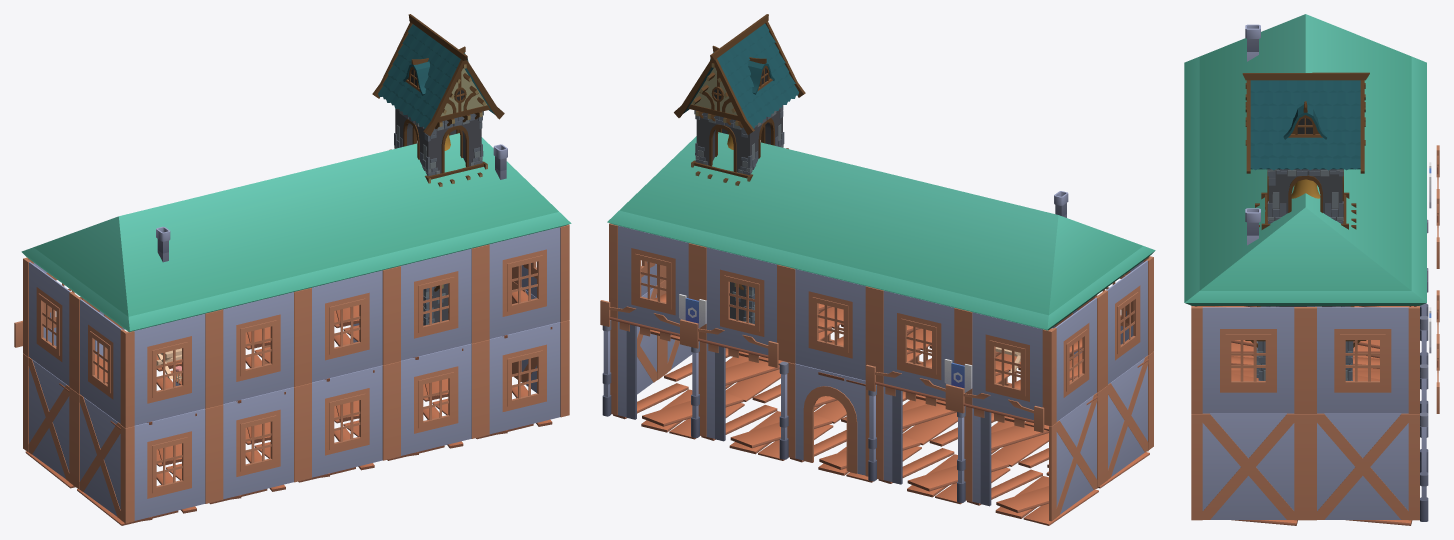
File: london_guild_3.glb
The picture shows the model from 3 angles, left to right: view 1: azimuth 30°, elevation 25°; view 2: azimuth 150°, elevation 25°; view 3: azimuth 270°, elevation 25°; orthographic projection. The views are drawn at different scales.
Visible parts, largest first — view 1: wall-window-shutters (×14), roof-gable (×3), roof-gable-end (×2), Bell_Tower, wall-detail-cross (×3); view 2: wall-window-shutters (×7), roof-gable (×3), roof-gable-end (×2), platform-planks (×9), wall-detail-cross (×4), Bell_Tower, wall-arch (×4), wall-door, balcony-wall-fence (×4), pillar-stone (×5), Guild_entrance_emblem_-7.5, Guild_entrance_emblem_7.5; view 3: roof-gable-end (×2), wall-detail-cross (×2), wall-window-shutters (×5), roof-gable (×3), Bell_Tower, pillar-stone (×3), platform-planks (×2), chimney-top (×2), wall-arch.
Part boxes in pixels (left/top/right/bottom): wall-window-shutters (×14): left=23, top=224, right=569, bottom=523; roof-gable (×3): left=163, top=143, right=483, bottom=311; roof-gable-end (×2): left=21, top=133, right=571, bottom=332; Bell_Tower: left=372, top=14, right=504, bottom=325; wall-detail-cross (×3): left=23, top=283, right=569, bottom=522; wall-window-shutters (×7): left=609, top=223, right=1153, bottom=426; roof-gable (×3): left=694, top=142, right=1013, bottom=309; roof-gable-end (×2): left=607, top=132, right=1155, bottom=330; platform-planks (×9): left=613, top=348, right=1098, bottom=525; wall-detail-cross (×4): left=610, top=280, right=1153, bottom=521; Bell_Tower: left=674, top=14, right=805, bottom=324; wall-arch (×4): left=610, top=320, right=991, bottom=506; wall-door: left=786, top=362, right=869, bottom=476; balcony-wall-fence (×4): left=600, top=300, right=1044, bottom=432; pillar-stone (×5): left=602, top=320, right=965, bottom=502; Guild_entrance_emblem_-7.5: left=944, top=359, right=972, bottom=392; Guild_entrance_emblem_7.5: left=679, top=294, right=706, bottom=328; roof-gable-end (×2): left=1184, top=14, right=1426, bottom=305; wall-detail-cross (×2): left=1191, top=413, right=1419, bottom=520; wall-window-shutters (×5): left=1191, top=306, right=1419, bottom=520; roof-gable (×3): left=1184, top=38, right=1426, bottom=254; Bell_Tower: left=1242, top=72, right=1369, bottom=380; pillar-stone (×3): left=1420, top=316, right=1428, bottom=521; platform-planks (×2): left=1231, top=340, right=1379, bottom=368; chimney-top (×2): left=1245, top=24, right=1260, bottom=235; wall-arch: left=1416, top=414, right=1419, bottom=520.
Bounding box in the file's own units: 25.18 × 19.75 × 11.15.
Materials: 25 (12 with a texture image).
